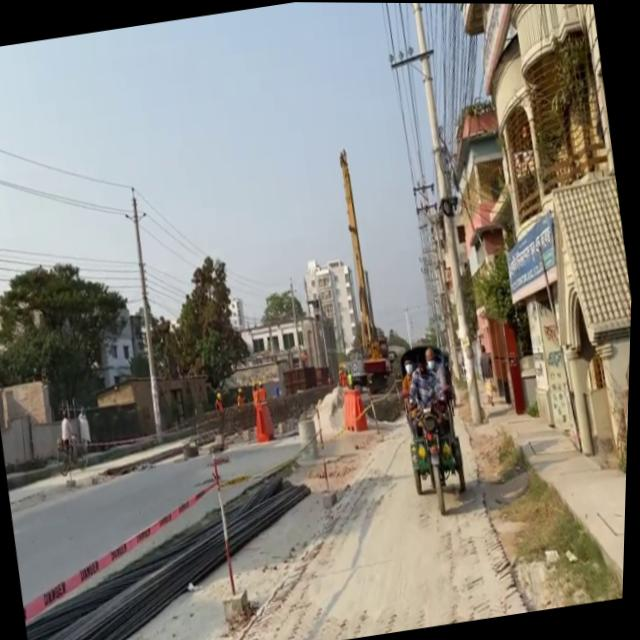Construction-barrier: (516, 423, 630, 609), (478, 481, 554, 616)
Fallen-tree: (400, 380, 477, 519)
Garbage: (199, 442, 260, 627), (309, 404, 343, 508)
Garbage-bin: (53, 408, 85, 477), (478, 343, 502, 406)
Light-pole: (395, 2, 498, 427)
Pothole: (472, 361, 632, 615)
Traffic-cone: (311, 144, 403, 397)
